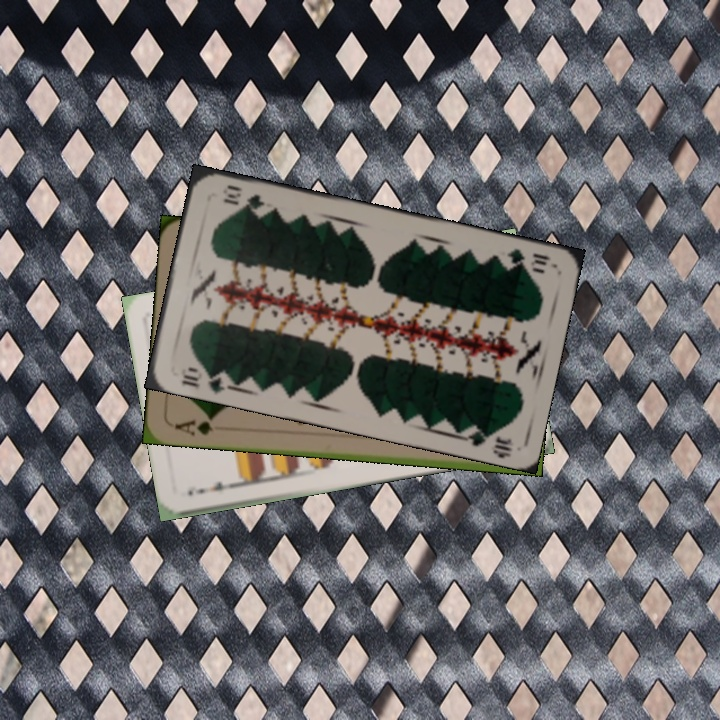E7: (193, 477, 240, 497)
G10: (177, 363, 233, 395), (503, 244, 554, 276)
GA: (171, 413, 217, 439)
